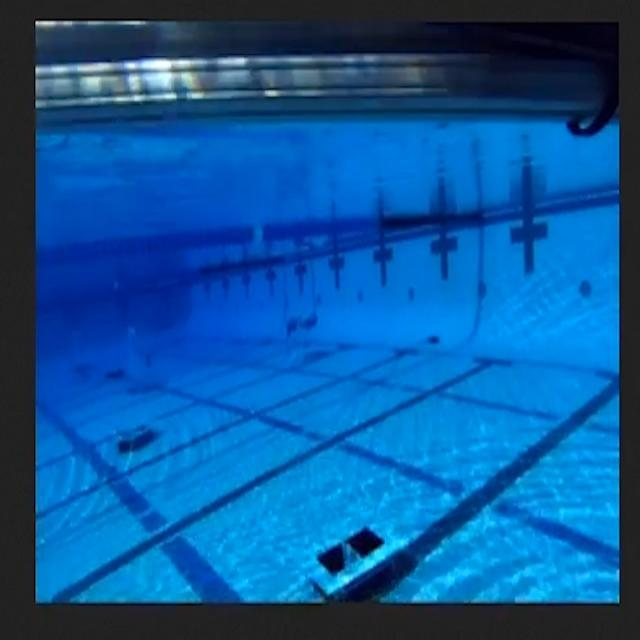Bin: (289, 494, 416, 606)
